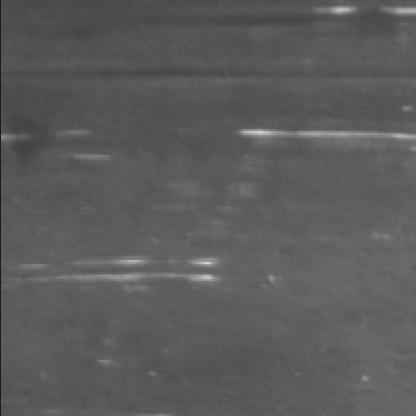inclusion: (8, 13, 406, 86)
scratches: (15, 249, 216, 296), (222, 118, 414, 154)
